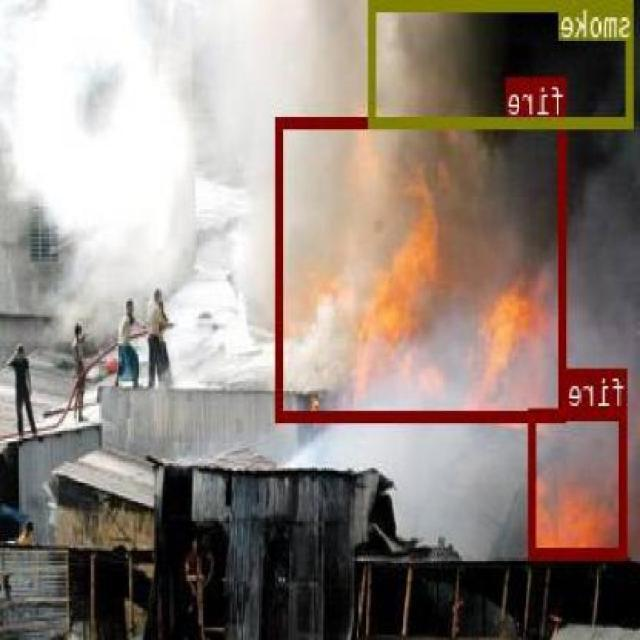Fire: (277, 116, 568, 421), (530, 407, 628, 556)
Smoke: (370, 0, 636, 128)
